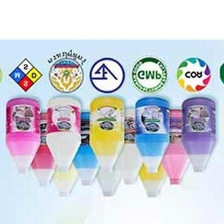cleaning_solution: (109, 105, 150, 187), (154, 106, 195, 187), (2, 96, 43, 176), (88, 94, 128, 175), (132, 95, 172, 173), (44, 94, 83, 174), (84, 125, 126, 199), (179, 95, 218, 173), (131, 124, 170, 197), (68, 109, 104, 187), (44, 127, 83, 199), (24, 110, 60, 188)
